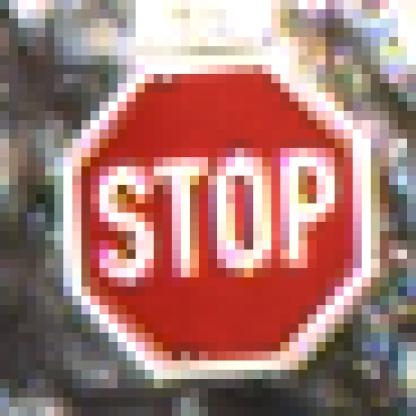stop: (53, 80, 374, 368)
